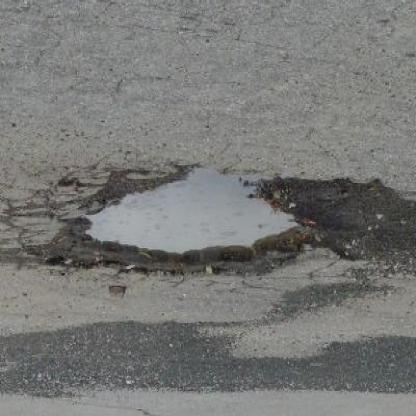pothole: (45, 166, 321, 288)
